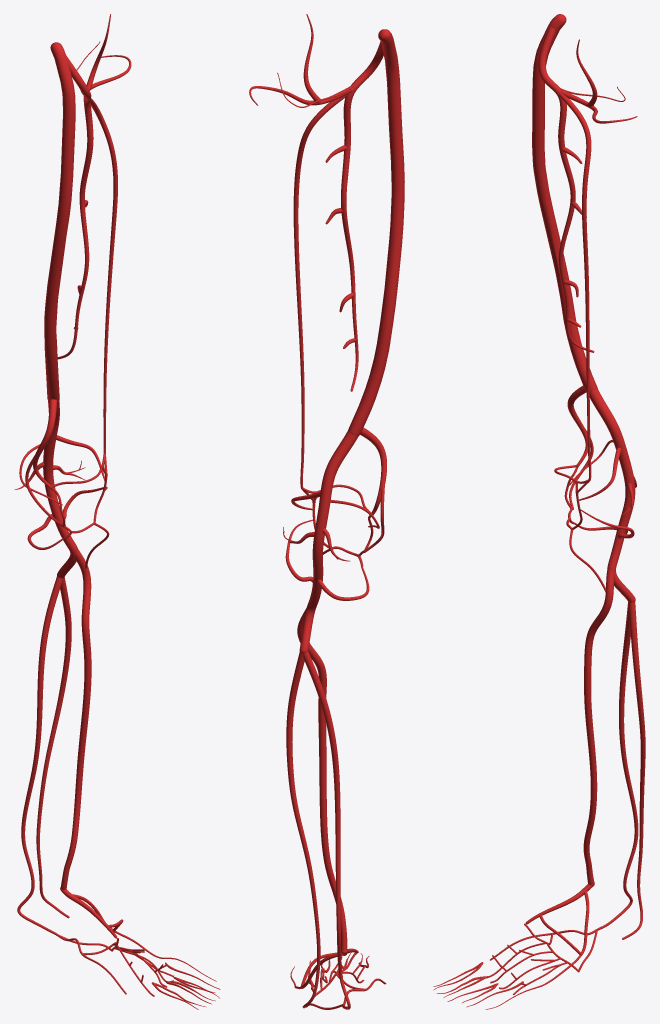
The model's file is arteries.lower_limb_left.glb.
The picture shows the model from 3 angles, left to right: view 1: azimuth 30°, elevation 25°; view 2: azimuth 150°, elevation 25°; view 3: azimuth 270°, elevation 25°; orthographic projection. The views are drawn at different scales.
Parts seen in each view (by area): view 1: left_femoral_artery, left_anterior_tibial_artery, left_posterior_tibial_artery, left_set_of_dorsal_digital_arteries, left_set_of_perforating_arteries, descending_branch_of_left_lateral_circumflex_femoral_artery, left_popliteal_artery, left_dorsal_digital_artery_of_foot, left_descending_genicular_artery, left_anterior_tibial_recurrent_artery, left_set_of_calcaneal_branches_of_posterior_tibial_artery; view 2: left_femoral_artery, left_popliteal_artery, left_set_of_perforating_arteries, left_anterior_tibial_artery, left_posterior_tibial_artery, left_set_of_dorsal_digital_arteries, descending_branch_of_left_lateral_circumflex_femoral_artery, left_set_of_calcaneal_branches_of_posterior_tibial_artery, left_descending_genicular_artery, left_anterior_tibial_recurrent_artery; view 3: left_femoral_artery, left_anterior_tibial_artery, left_set_of_perforating_arteries, left_popliteal_artery, descending_branch_of_left_lateral_circumflex_femoral_artery, left_set_of_dorsal_digital_arteries, left_posterior_tibial_artery, left_dorsal_digital_artery_of_foot, left_anterior_tibial_recurrent_artery, left_descending_genicular_artery, left_set_of_calcaneal_branches_of_posterior_tibial_artery.
Part boxes in pixels (x1,y1,x2,y2): left_femoral_artery: (44, 42, 75, 403); left_anterior_tibial_artery: (61, 549, 91, 889); left_posterior_tibial_artery: (17, 576, 62, 935); left_set_of_dorsal_digital_arteries: (36, 577, 71, 918); left_set_of_perforating_arteries: (57, 55, 93, 359); descending_branch_of_left_lateral_circumflex_femoral_artery: (90, 98, 117, 453); left_popliteal_artery: (43, 401, 77, 578); left_dorsal_digital_artery_of_foot: (114, 931, 220, 1009); left_descending_genicular_artery: (25, 399, 62, 526); left_anterior_tibial_recurrent_artery: (51, 453, 109, 568); left_set_of_calcaneal_branches_of_posterior_tibial_artery: (83, 14, 131, 96); left_femoral_artery: (348, 29, 404, 436); left_popliteal_artery: (299, 430, 357, 653); left_set_of_perforating_arteries: (325, 41, 383, 391); left_anterior_tibial_artery: (297, 608, 347, 950); left_posterior_tibial_artery: (303, 651, 350, 1009); left_set_of_dorsal_digital_arteries: (286, 651, 320, 1008); descending_branch_of_left_lateral_circumflex_femoral_artery: (293, 93, 348, 489); left_set_of_calcaneal_branches_of_posterior_tibial_artery: (249, 14, 353, 105); left_descending_genicular_artery: (360, 427, 386, 552); left_anterior_tibial_recurrent_artery: (301, 484, 373, 566); left_femoral_artery: (532, 14, 597, 393); left_anterior_tibial_artery: (583, 569, 614, 884); left_set_of_perforating_arteries: (538, 27, 594, 352); left_popliteal_artery: (589, 389, 635, 602); descending_branch_of_left_lateral_circumflex_femoral_artery: (559, 92, 591, 480); left_set_of_dorsal_digital_arteries: (622, 602, 645, 939); left_posterior_tibial_artery: (597, 602, 638, 930); left_dorsal_digital_artery_of_foot: (433, 955, 581, 1009); left_anterior_tibial_recurrent_artery: (554, 464, 606, 592); left_descending_genicular_artery: (567, 385, 593, 509); left_set_of_calcaneal_branches_of_posterior_tibial_artery: (560, 39, 637, 123).
Size of the model in its own units: 0.1378 by 0.9055 by 0.185.
